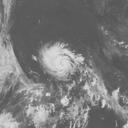cyclone: (37, 40, 84, 82)
